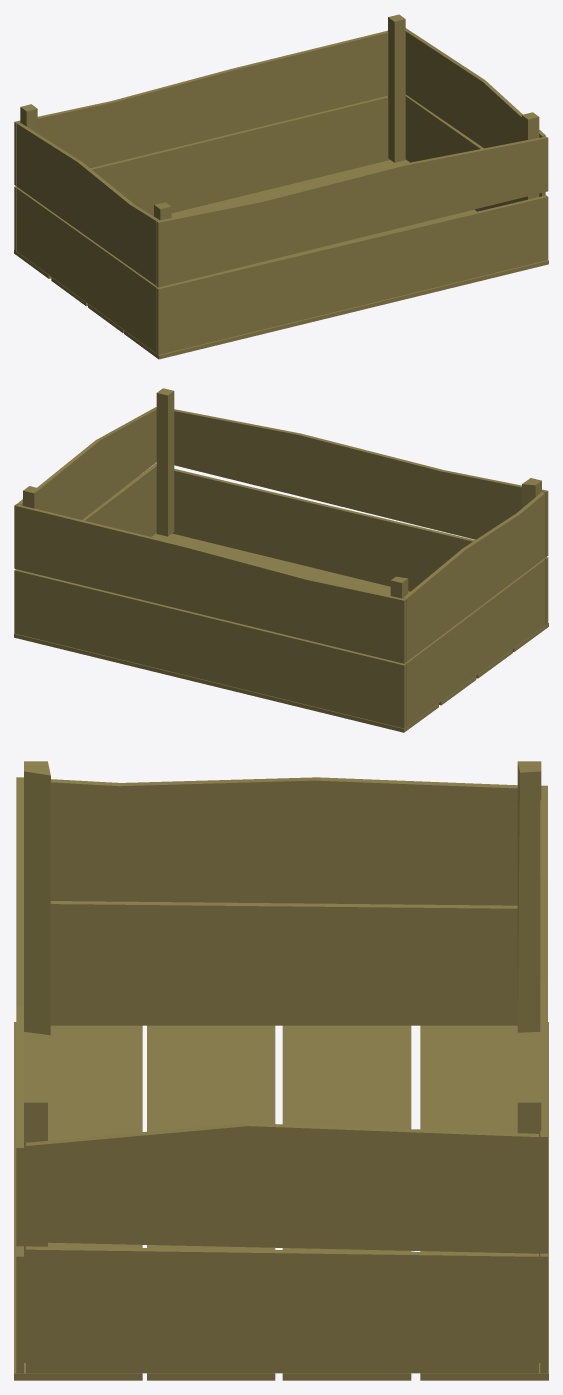
The model's file is fruitbox01.fbx.
The picture shows the model from 3 angles, top to bottom: view 1: azimuth 30°, elevation 25°; view 2: azimuth 150°, elevation 25°; view 3: azimuth 270°, elevation 25°; orthographic projection. The views are drawn at different scales.
Parts seen in each view (by area): view 1: Cube; view 2: Cube; view 3: Cube.
Boxes of the visible parts, x1,y1,x2,y2 form: Cube: (14,14,548,359); Cube: (14,388,548,732); Cube: (14,761,548,1380).
Bounding box in the file's own units: 0.6217 × 0.224 × 0.3999.
